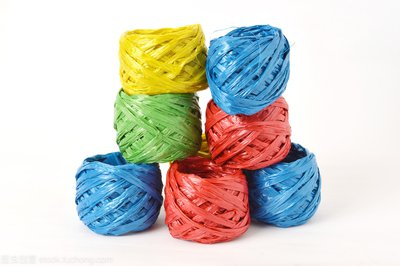9/可回收垃圾/绳子: (205, 24, 291, 117), (164, 155, 251, 244), (74, 151, 163, 237), (112, 88, 203, 166), (243, 143, 322, 228), (118, 23, 209, 96), (204, 96, 292, 171)
